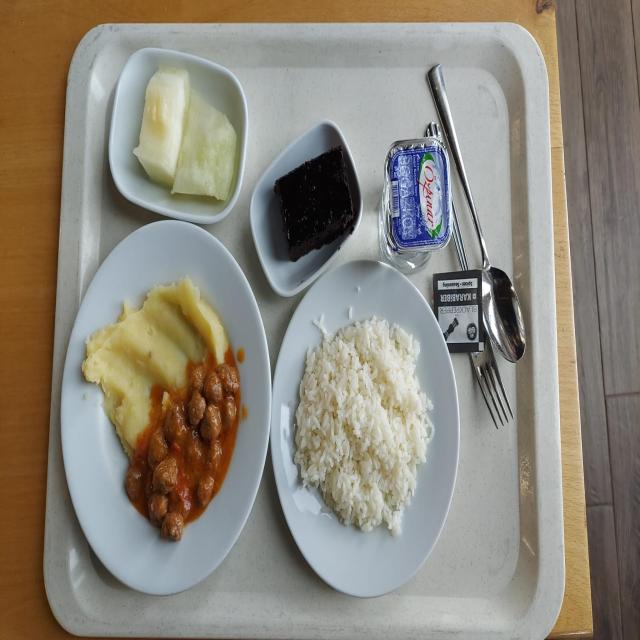ana_yemek: (60, 218, 270, 596), (269, 256, 440, 594)
yan_yemek: (108, 45, 247, 222), (250, 120, 356, 294)
